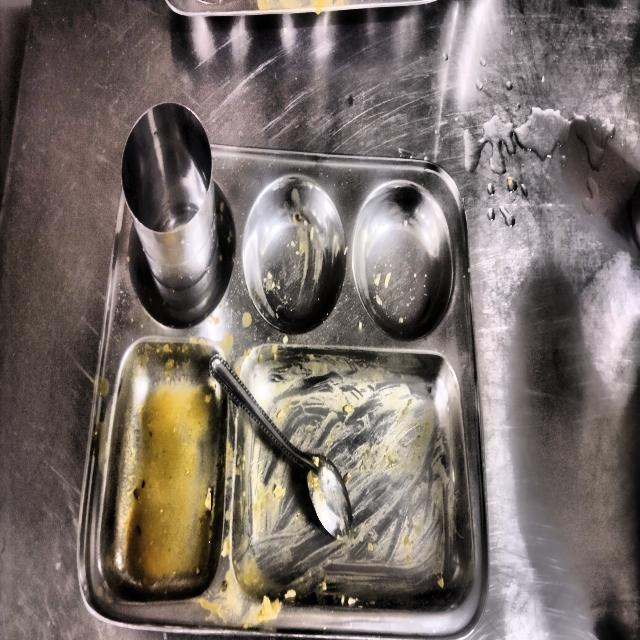Gulab-jamun: (100, 178, 482, 600)
